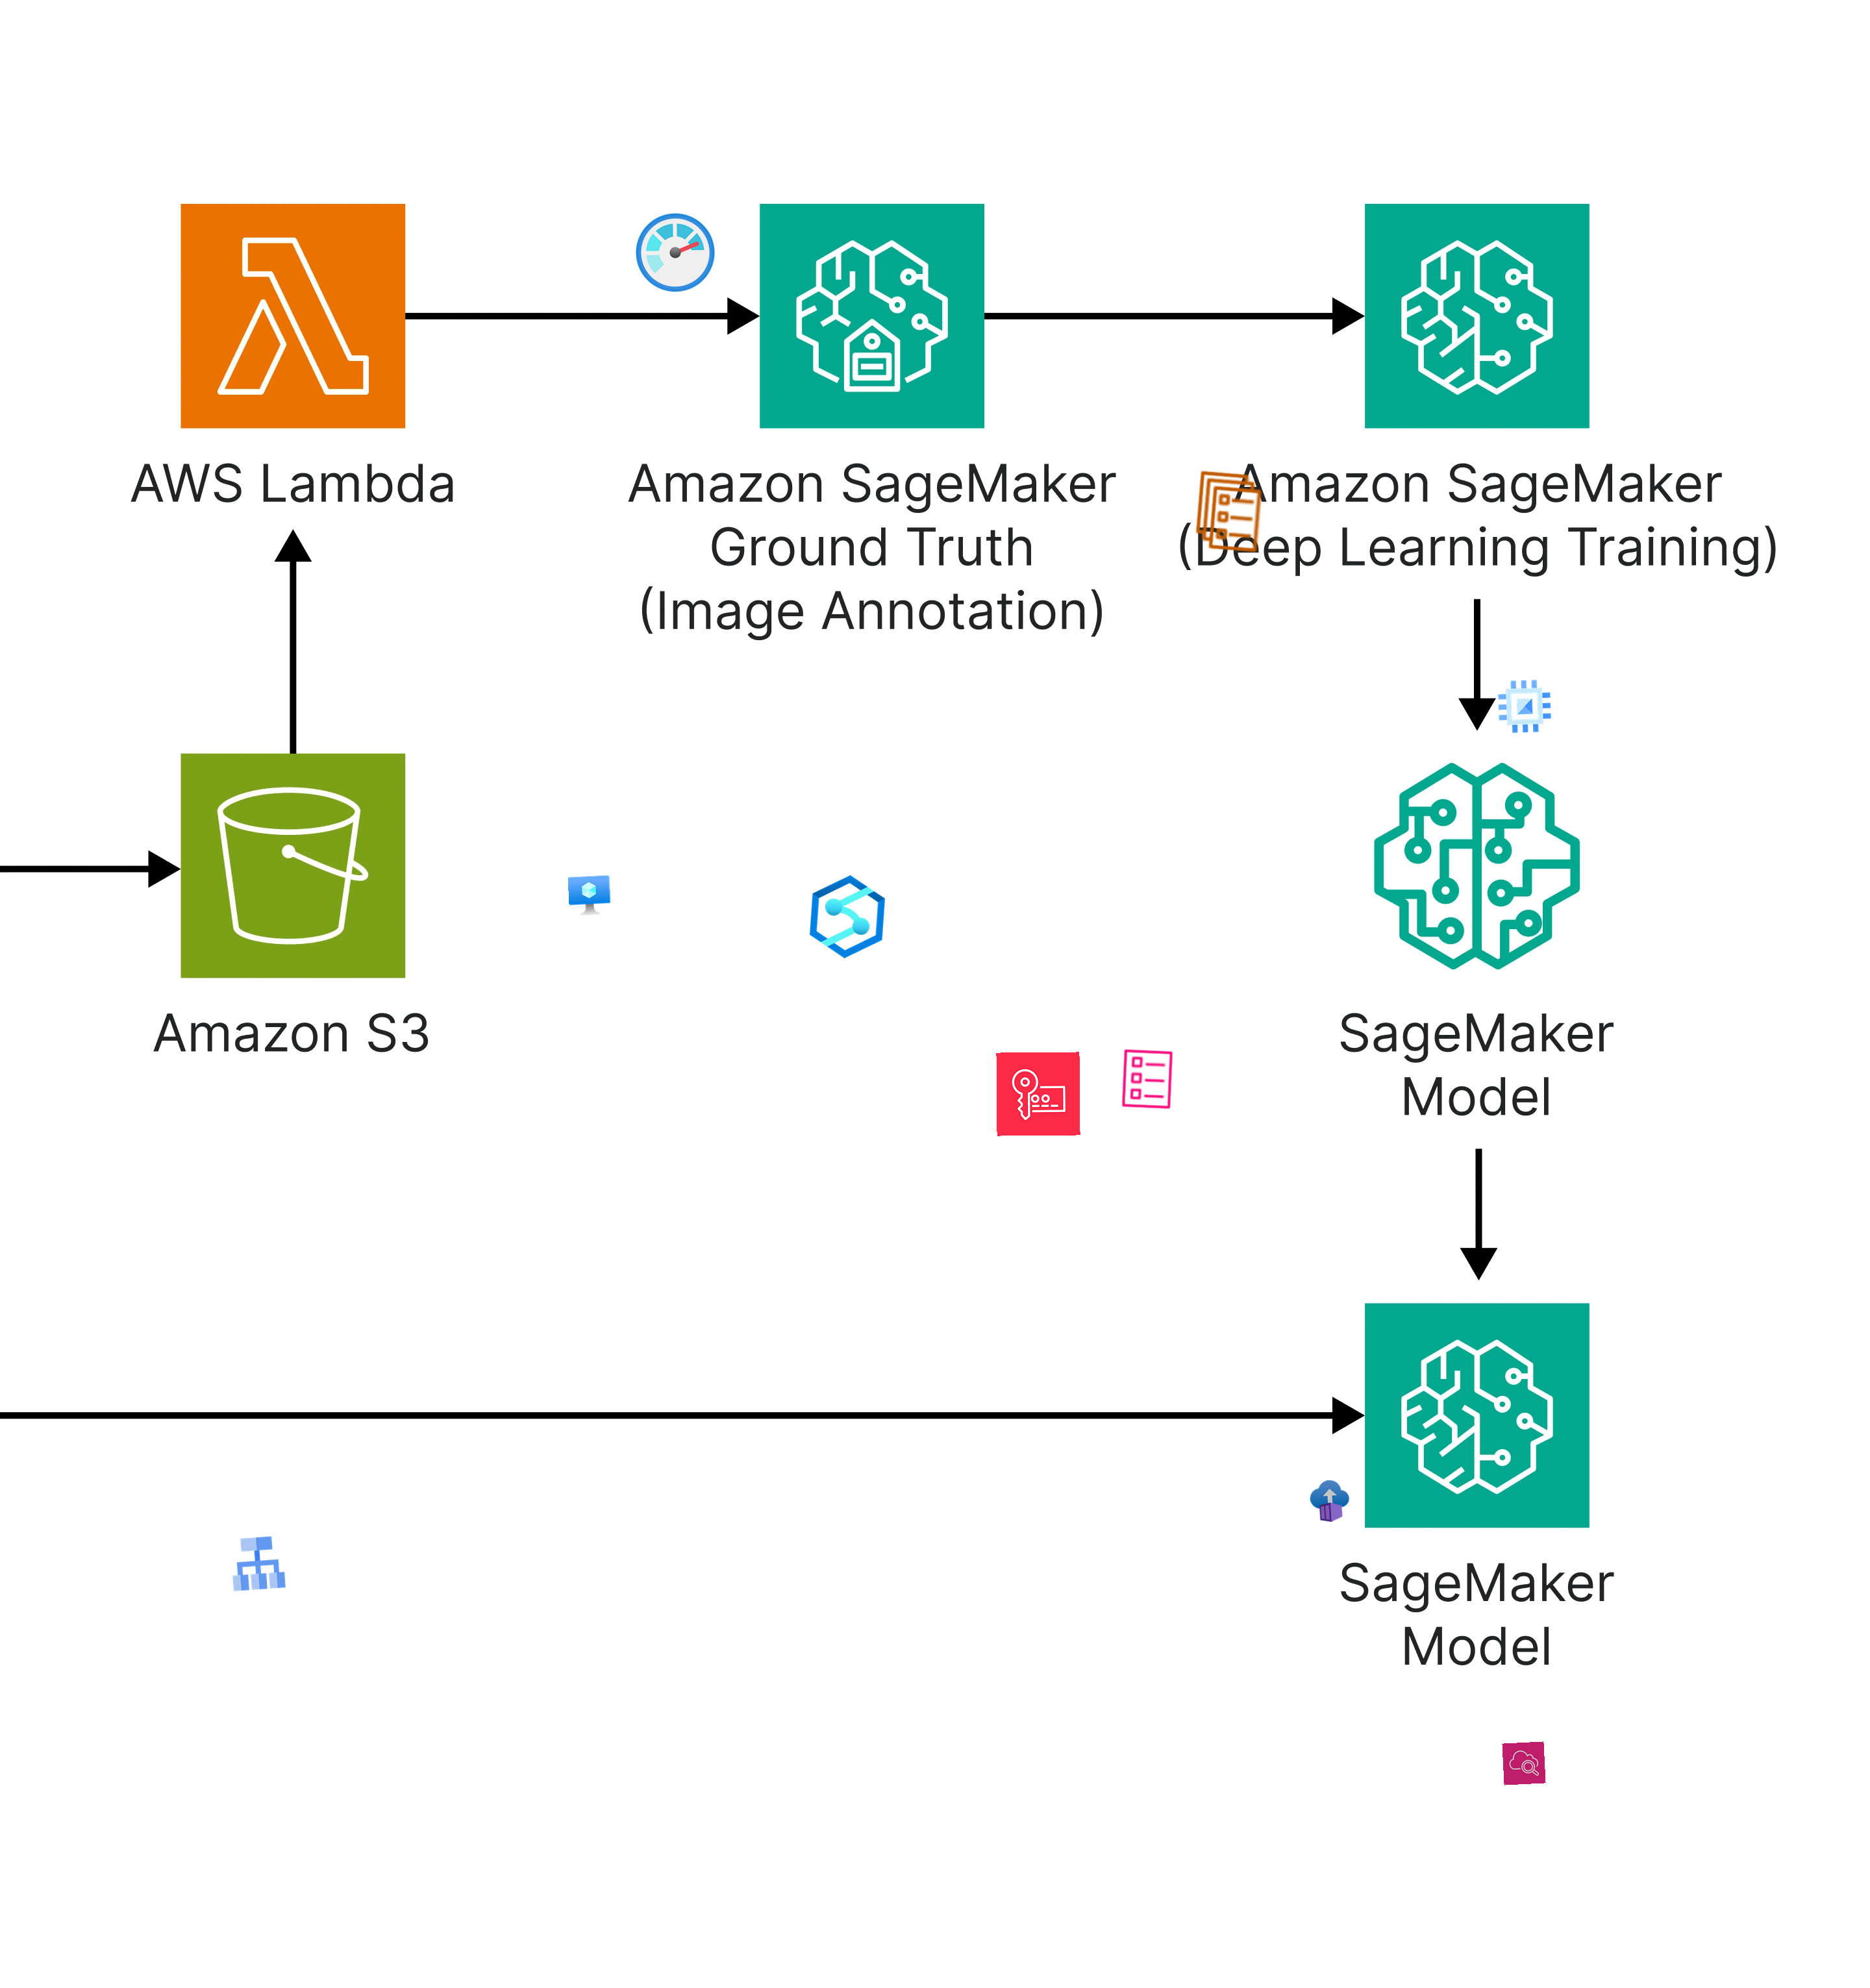aws_amazon_cloudwatch: (1503, 1742, 1547, 1786)
aws_cloudformation_template: (1114, 1046, 1179, 1113)
aws_elastic_container_service_service: (1183, 466, 1274, 557)
aws_key_management_service: (997, 1051, 1081, 1135)
azure_container_instances: (1308, 1478, 1353, 1524)
azure_monitor: (633, 209, 719, 295)
azure_synapse_analytics: (803, 872, 893, 961)
azure_virtual_machine: (568, 875, 612, 919)
gcp_cloud_load_balancing: (223, 1529, 292, 1598)
gcp_compute_engine: (1492, 673, 1557, 738)
